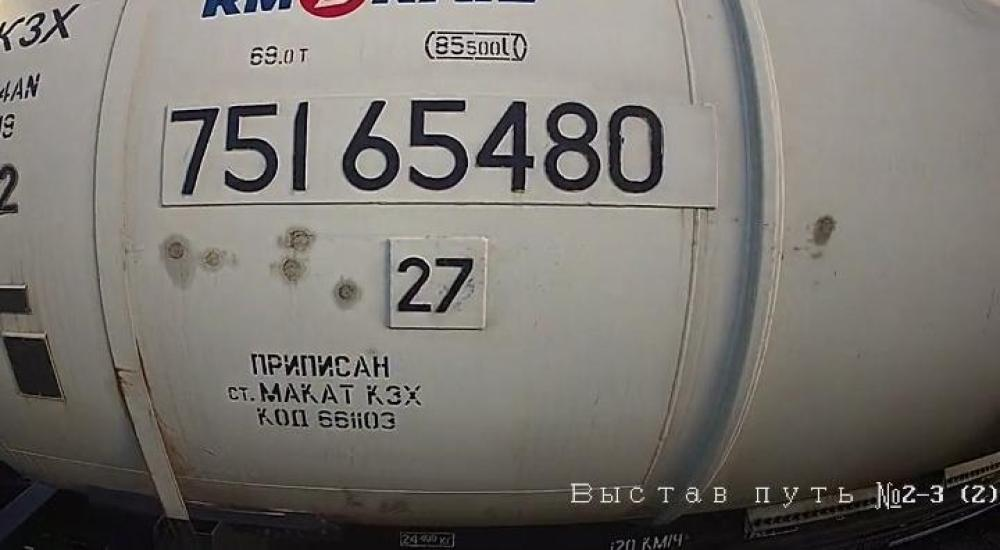Wagon-number: (165, 96, 672, 207)
